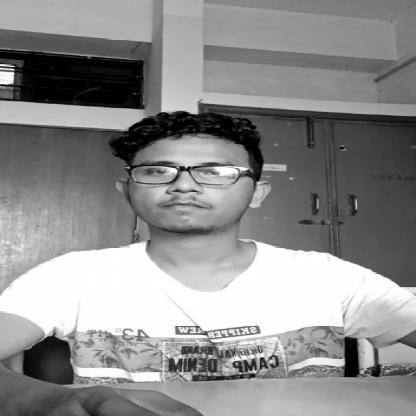Normal: (110, 114, 270, 248)
